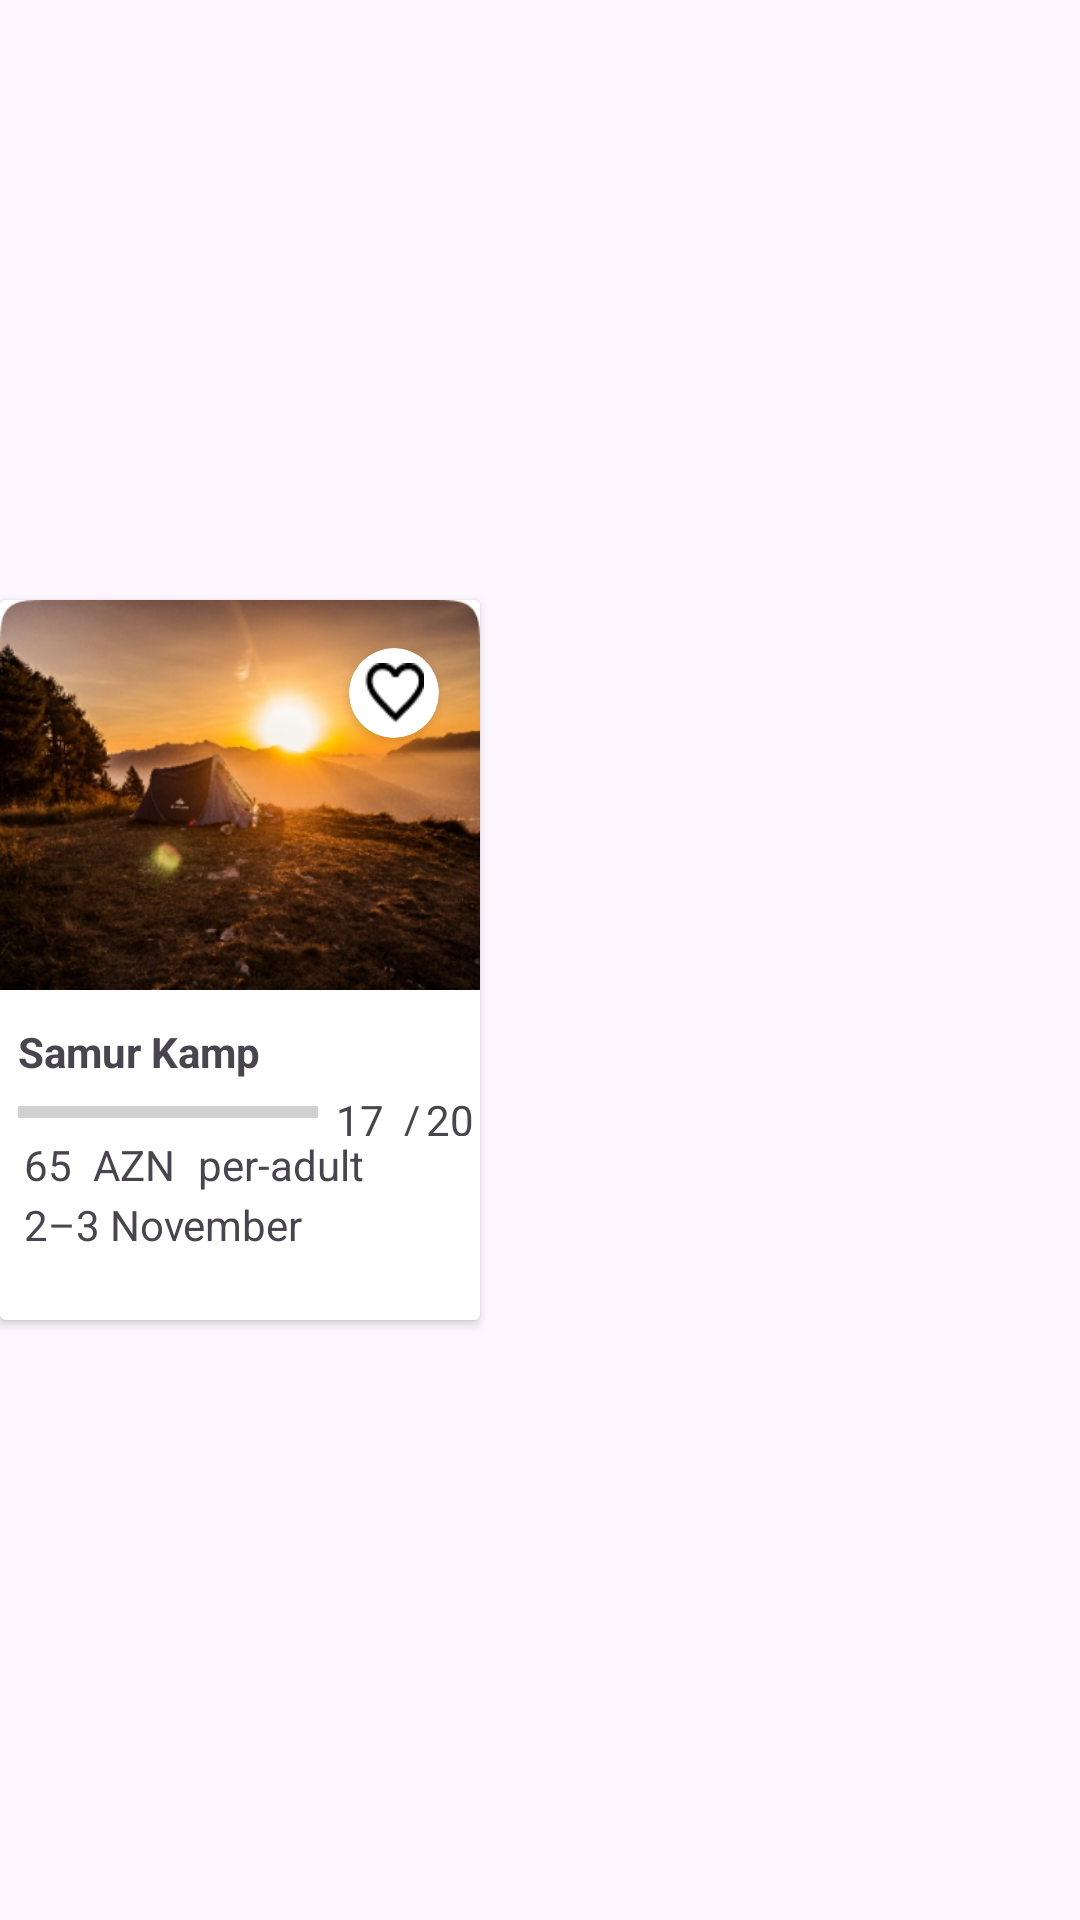

Where icons sit on this 1080 × 1920 app screen, as box(x1, y1, x2, y2):
favorite: box(365, 663, 424, 723)
